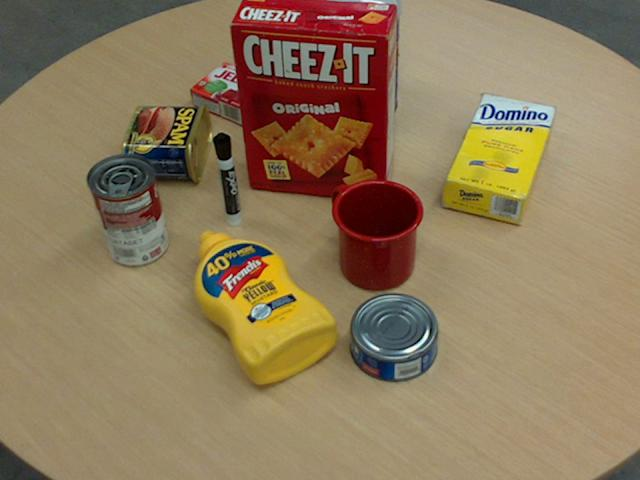cracker_box: (230, 0, 398, 198)
gelatin_box: (187, 60, 276, 125)
large_marker: (212, 132, 241, 227)
master_chef_can: (313, 0, 400, 127)
mug: (330, 178, 423, 289)
mustard_bottle: (192, 231, 337, 383)
potted_meat_can: (122, 103, 211, 181)
sugar_box: (442, 94, 554, 223)
tomato_soup_can: (85, 151, 166, 264)
tuna_fish_can: (350, 292, 438, 381)
